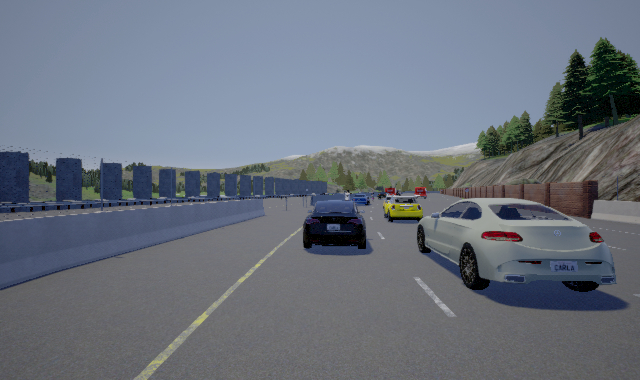vehicle: (416, 196, 617, 294), (303, 198, 370, 249), (382, 194, 425, 222), (352, 194, 369, 206)
